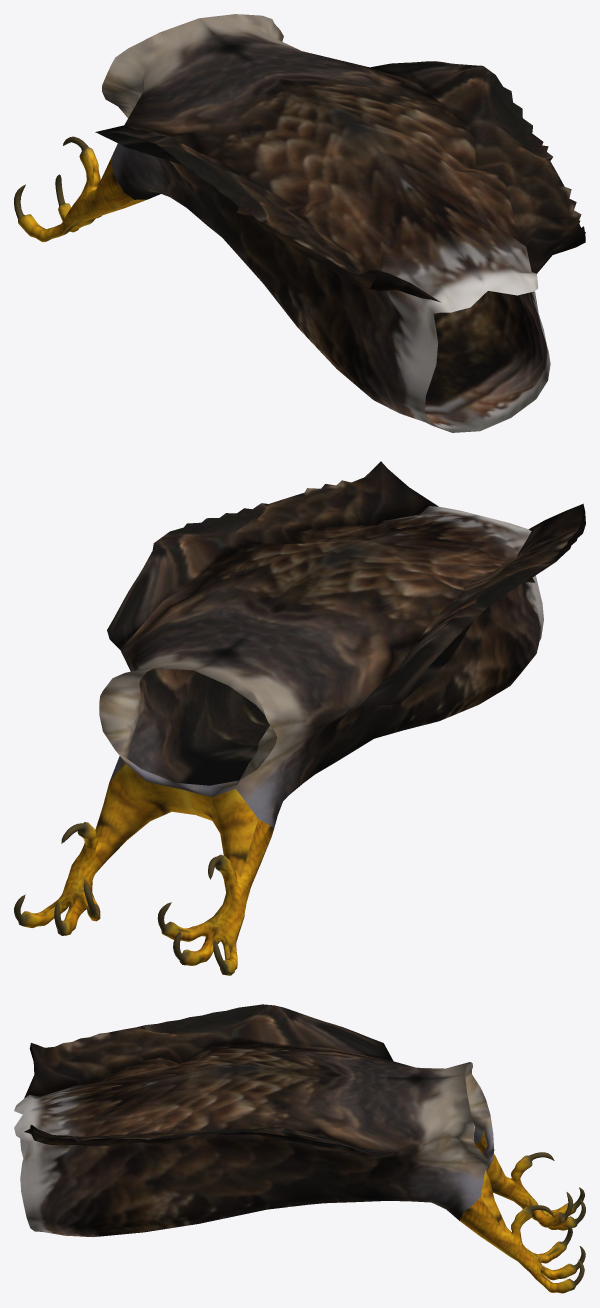
Rendered from body.obj.
3 views of the same model, one above another, from view 1: azimuth 30°, elevation 25°; view 2: azimuth 150°, elevation 25°; view 3: azimuth 270°, elevation 25° (orthographic). The views are drawn at different scales.
Visible parts, largest first — view 1: body_Plane.005; view 2: body_Plane.005; view 3: body_Plane.005.
Part boxes in pixels (x1,y1,x2,y2): body_Plane.005: (14, 14, 585, 432); body_Plane.005: (14, 461, 585, 975); body_Plane.005: (14, 1004, 585, 1293).
Size of the model in its own units: 1.9 by 1.38 by 3.76.
